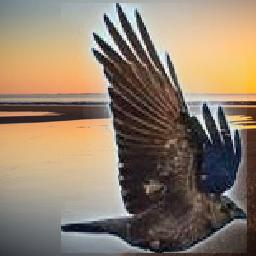Crow: (61, 3, 247, 253)
